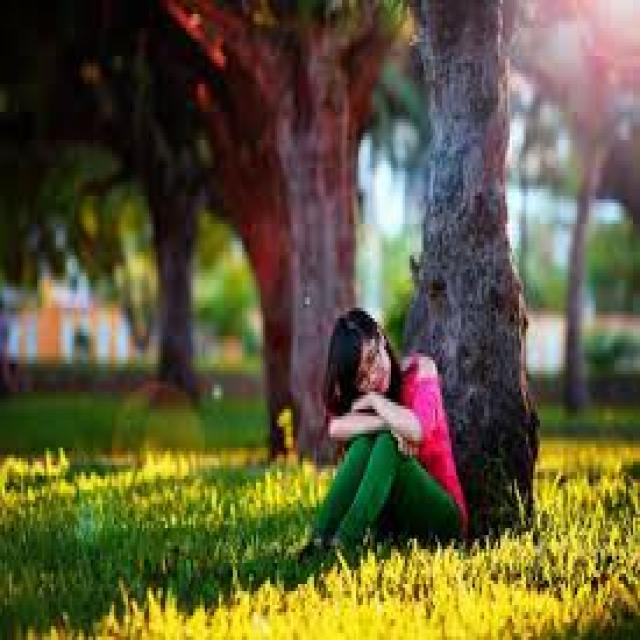nonfall: (318, 293, 468, 544)
